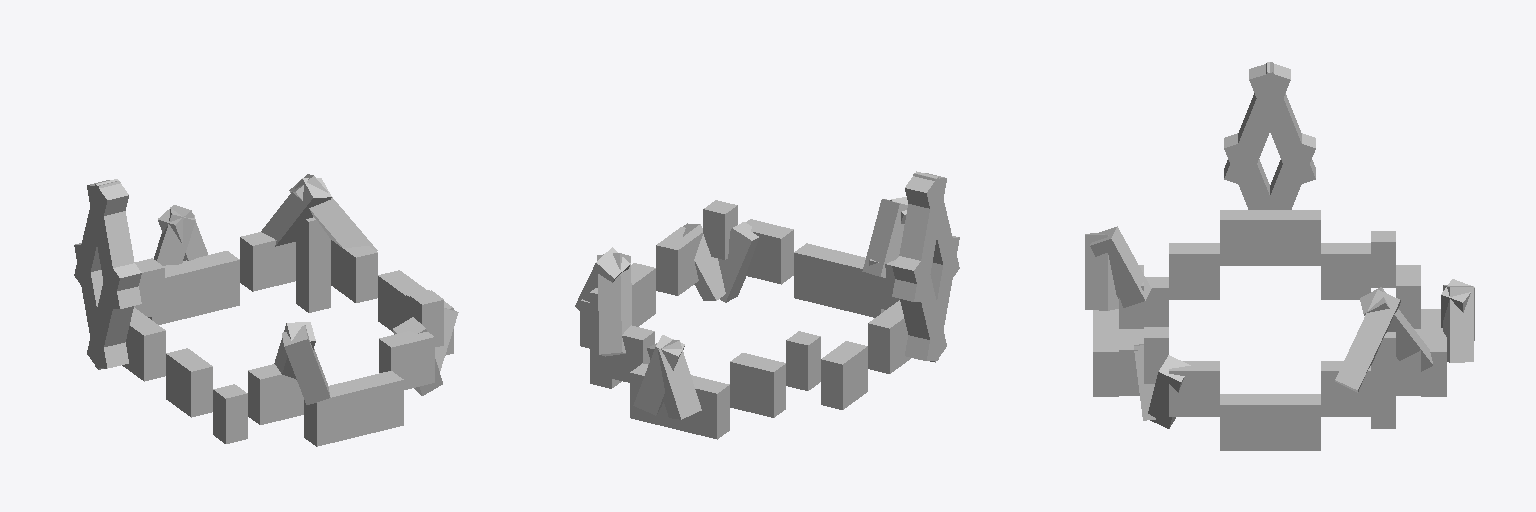
Rendered from wen_cun_.obj.
3 views of the same model, side by side, from view 1: azimuth 30°, elevation 25°; view 2: azimuth 150°, elevation 25°; view 3: azimuth 270°, elevation 25° (orthographic).
Visible parts, largest first — view 1: cube; view 2: cube; view 3: cube.
Part boxes in pixels (bbox=[...]): cube: bbox=[74, 174, 458, 446]; cube: bbox=[575, 171, 959, 439]; cube: bbox=[1085, 62, 1474, 450].
Bounding box in the file's own units: 0.9375 × 0.6263 × 0.9654.